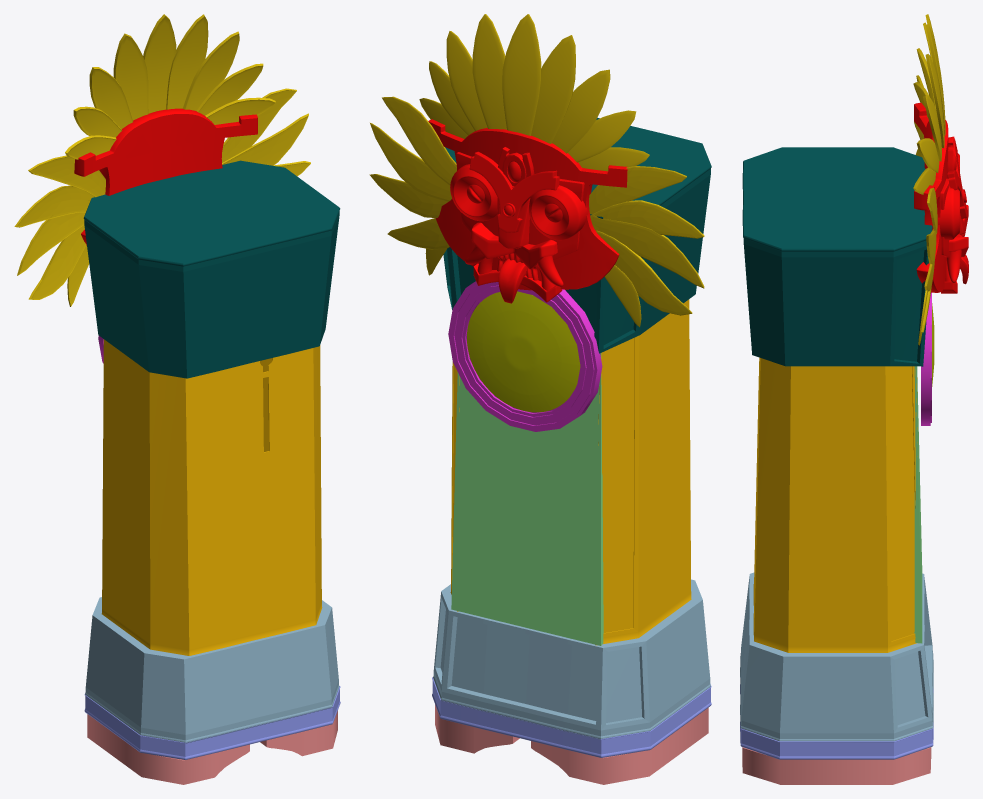
The model's file is GrandFatherClock2.FBX.
3 renders of one model, left to right at view 1: azimuth 30°, elevation 25°; view 2: azimuth 150°, elevation 25°; view 3: azimuth 270°, elevation 25°, orthographic. The views are drawn at different scales.
Visible parts, largest first — view 1: Clock Body, ClockTop, TikiPlume, Clock Base, TikiMask, Clock Feet, Clock Bottom; view 2: TikiPlume, Glass, Clock Body, Clock Base, TikiMask, ClockTop, Clock Glass, Clock Ring, Clock Feet, Clock Bottom; view 3: Clock Body, ClockTop, Clock Base, TikiMask, Clock Feet, TikiPlume, Clock Bottom, Glass, Clock Ring.
Part boxes in pixels (x1,y1,x2,y2): Clock Body: [101, 339, 322, 655]; ClockTop: [83, 160, 340, 378]; TikiPlume: [14, 14, 310, 306]; Clock Base: [85, 597, 339, 743]; TikiMask: [74, 108, 257, 245]; Clock Feet: [87, 711, 337, 784]; Clock Bottom: [84, 686, 340, 759]; TikiPlume: [369, 14, 704, 327]; Glass: [451, 353, 603, 645]; Clock Body: [450, 299, 691, 645]; Clock Base: [433, 579, 710, 739]; TikiMask: [428, 119, 627, 303]; ClockTop: [443, 117, 711, 353]; Clock Glass: [467, 291, 580, 412]; Clock Ring: [448, 281, 602, 431]; Clock Feet: [435, 704, 708, 784]; Clock Bottom: [432, 677, 711, 757]; Clock Body: [753, 357, 917, 652]; ClockTop: [742, 147, 932, 366]; Clock Base: [740, 572, 933, 741]; TikiMask: [914, 102, 968, 293]; Clock Feet: [742, 747, 931, 784]; TikiPlume: [913, 14, 945, 345]; Clock Bottom: [740, 684, 933, 759]; Glass: [914, 366, 922, 643]; Clock Ring: [921, 292, 931, 425].
Size of the model in its own units: 300 by 653 by 191.
